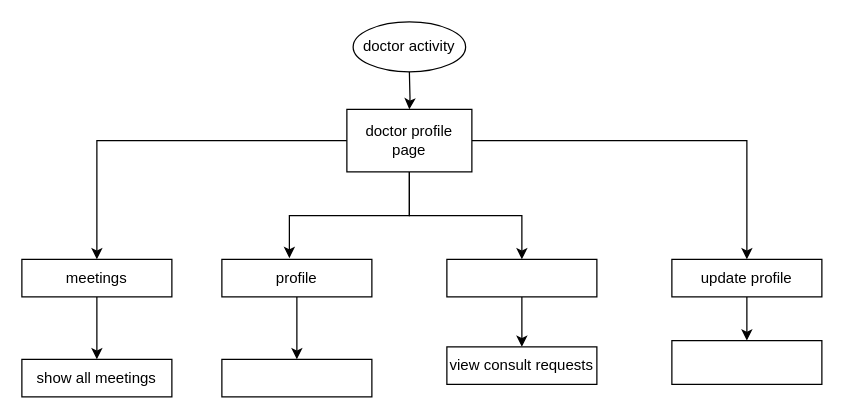
This 844x419 diagram has some shape labels left out. The shapes that lost their labels are listed below. From the top down, each one's box as (x1, y1, x2, y2) in pixels, then its label:
(446, 258, 597, 297): manage notifications
(221, 358, 372, 397): view profile data
(671, 339, 822, 384): validate and save
